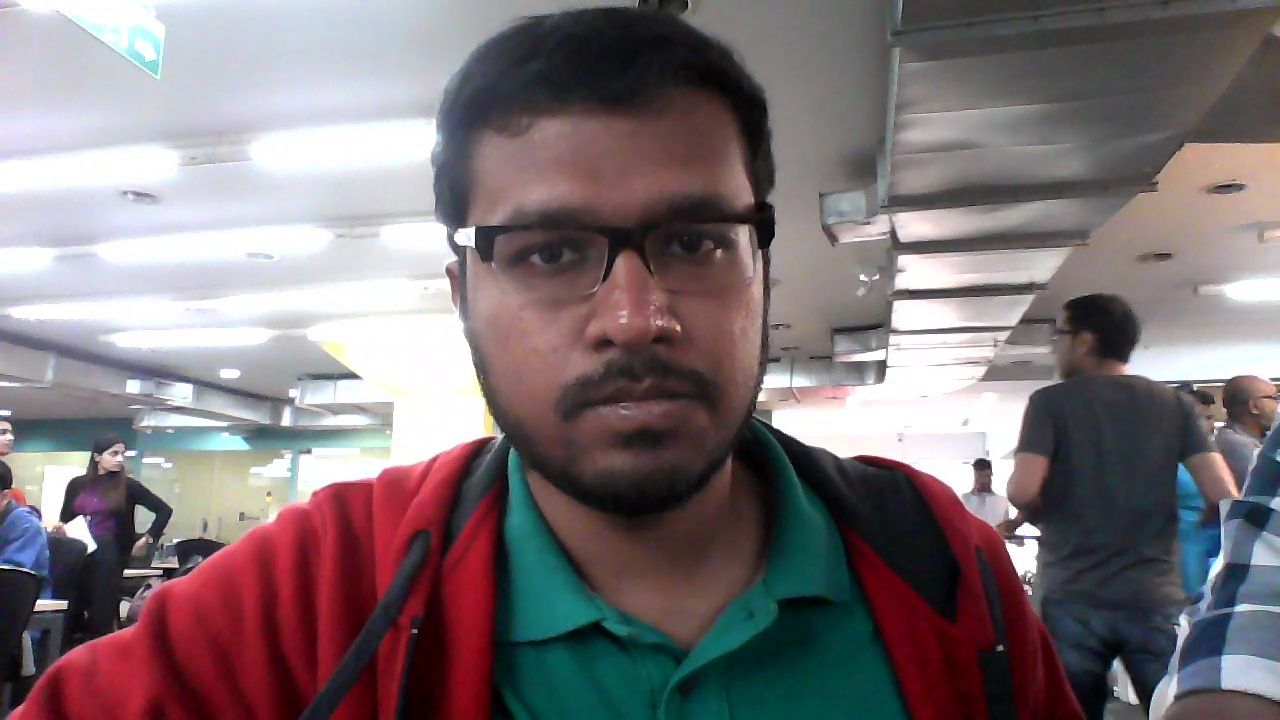open: (431, 8, 784, 541)
